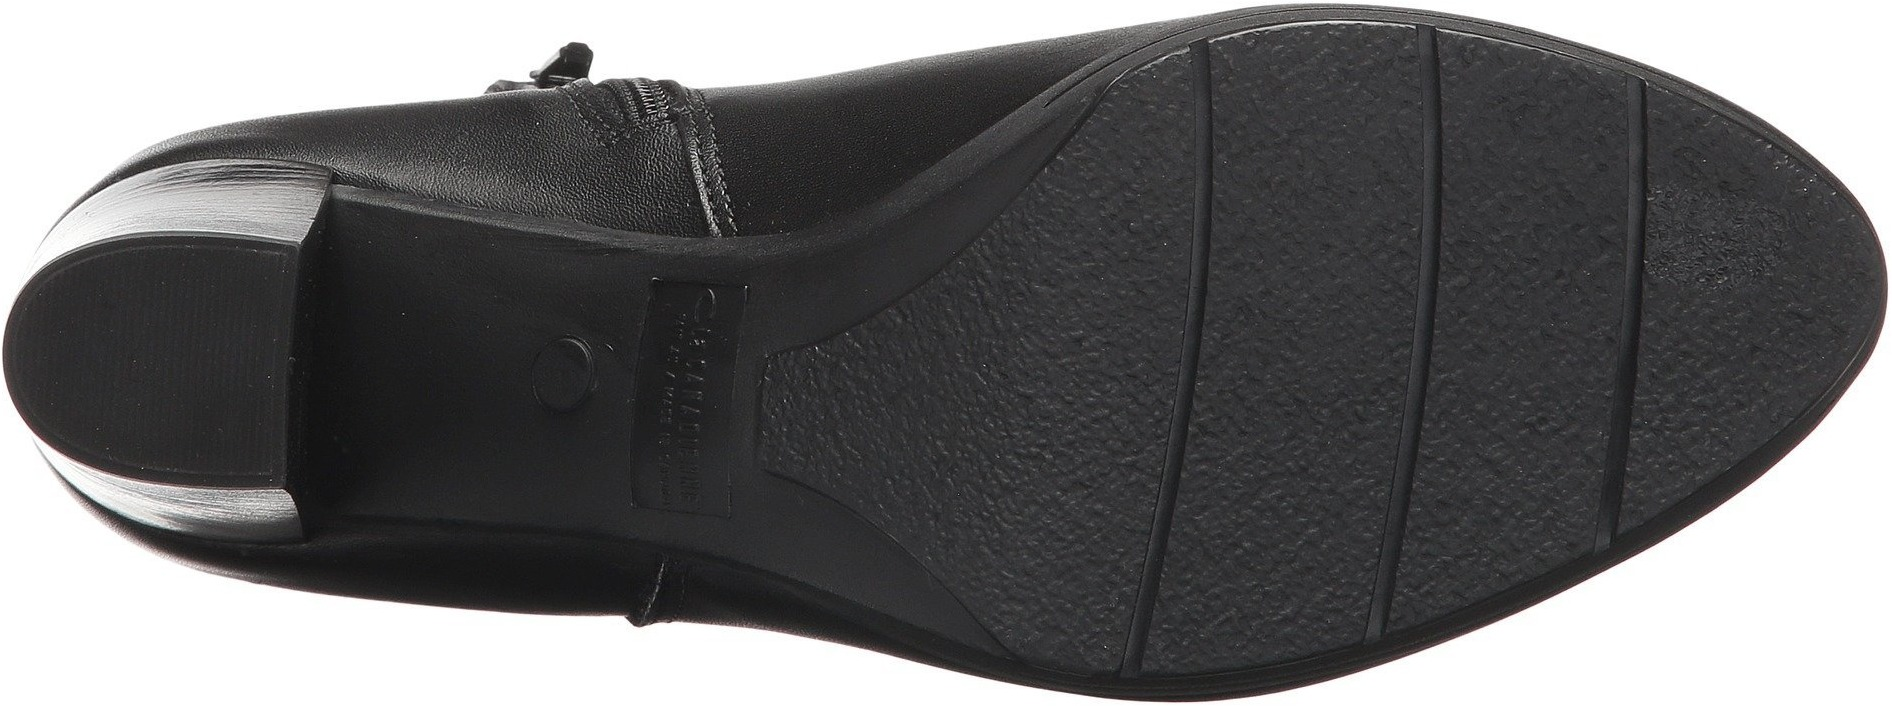other: (929, 307, 1148, 532), (1236, 48, 1421, 238), (1219, 250, 1408, 430), (1452, 144, 1628, 334), (1665, 185, 1833, 369), (103, 270, 280, 440), (1198, 463, 1368, 637), (1437, 397, 1582, 558), (1043, 157, 1180, 278)
